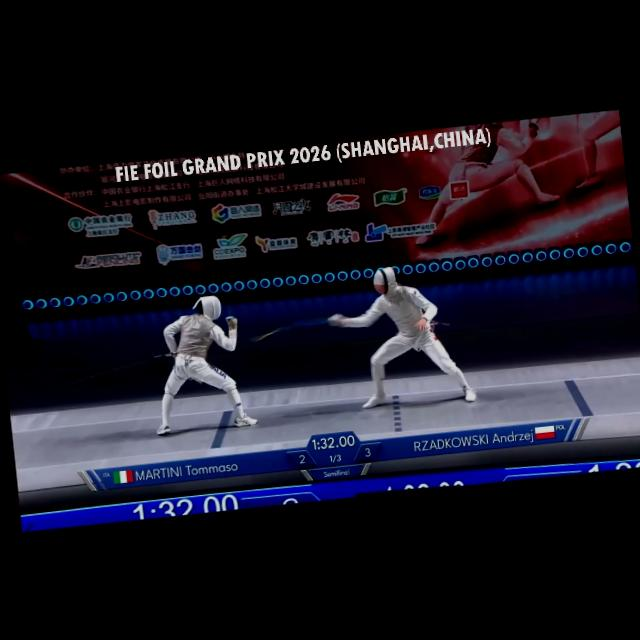blade: (246, 310, 348, 351), (214, 231, 243, 332)
